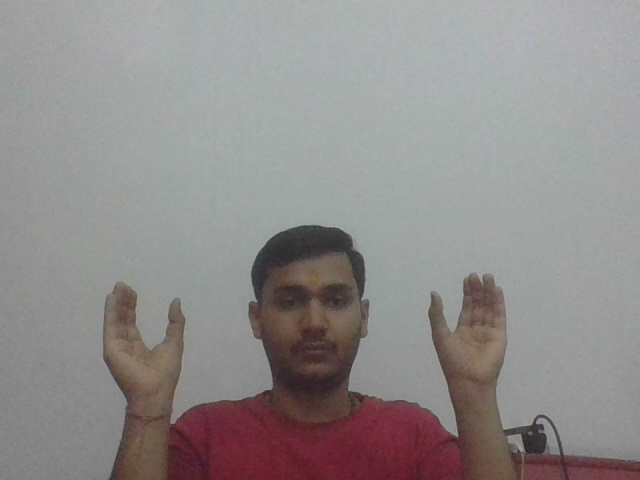U: (100, 280, 189, 397), (427, 270, 510, 388)
